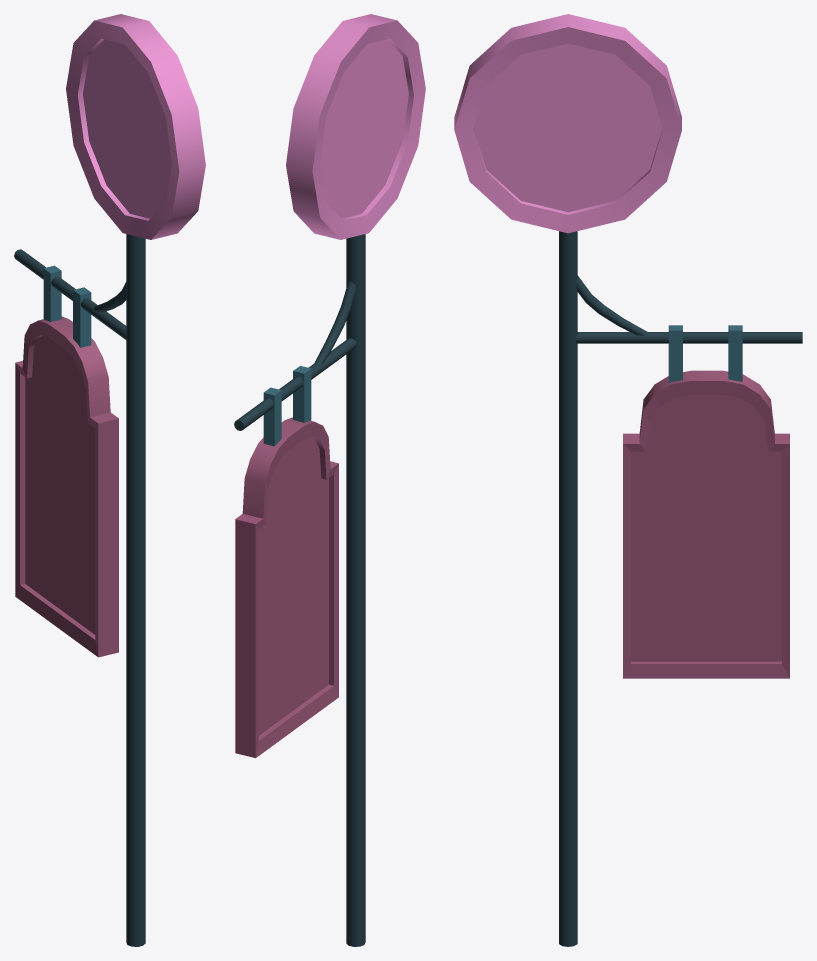
The model's file is Bushalte_Bord_Model.fbx.
The picture shows the model from 3 angles, left to right: view 1: azimuth 30°, elevation 25°; view 2: azimuth 150°, elevation 25°; view 3: azimuth 270°, elevation 25°; orthographic projection.
Visible parts, largest first — view 1: Bushalte_Hangbord, Bushalte_Nummerbord, Bushalte_Pilaarbord, Bushalte_BordHengsels; view 2: Bushalte_Hangbord, Bushalte_Nummerbord, Bushalte_Pilaarbord, Bushalte_BordHengsels; view 3: Bushalte_Hangbord, Bushalte_Nummerbord, Bushalte_Pilaarbord, Bushalte_BordHengsels.
Boxes of the visible parts, box(x1,y1,x2,y2) form: Bushalte_Hangbord: box(15, 316, 118, 657); Bushalte_Nummerbord: box(66, 14, 205, 239); Bushalte_Pilaarbord: box(14, 234, 145, 946); Bushalte_BordHengsels: box(43, 265, 91, 347); Bushalte_Hangbord: box(235, 417, 338, 758); Bushalte_Nummerbord: box(286, 14, 425, 239); Bushalte_Pilaarbord: box(234, 234, 365, 946); Bushalte_BordHengsels: box(263, 366, 311, 446); Bushalte_Hangbord: box(623, 370, 789, 678); Bushalte_Nummerbord: box(454, 14, 681, 233); Bushalte_Pilaarbord: box(559, 231, 802, 946); Bushalte_BordHengsels: box(668, 325, 742, 383).
Size of the model in its own units: 0.000635 by 0.021 by 0.00718.
